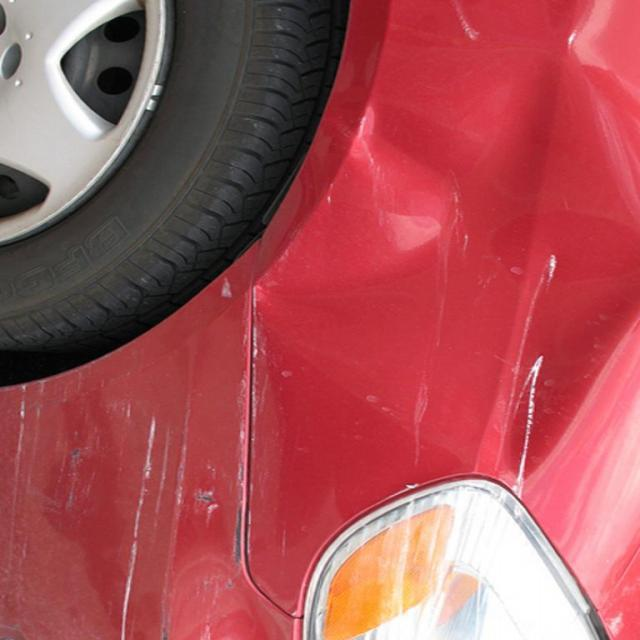dent: (224, 64, 634, 480)
